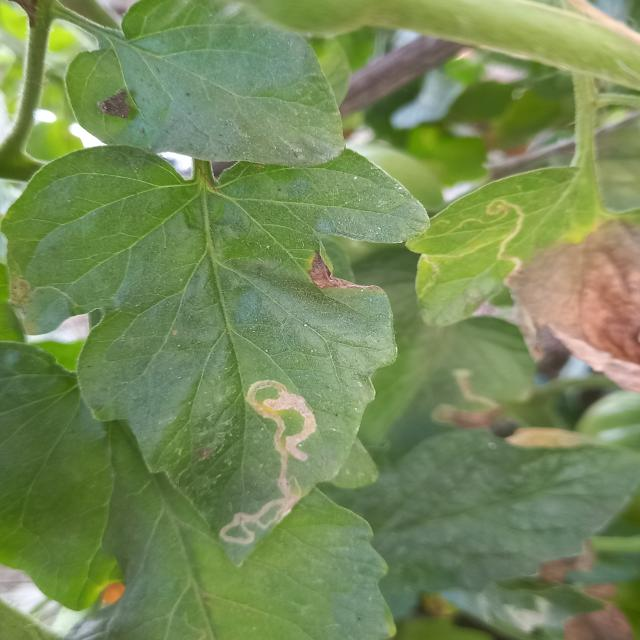Tuta absoluta: (219, 376, 324, 554)
